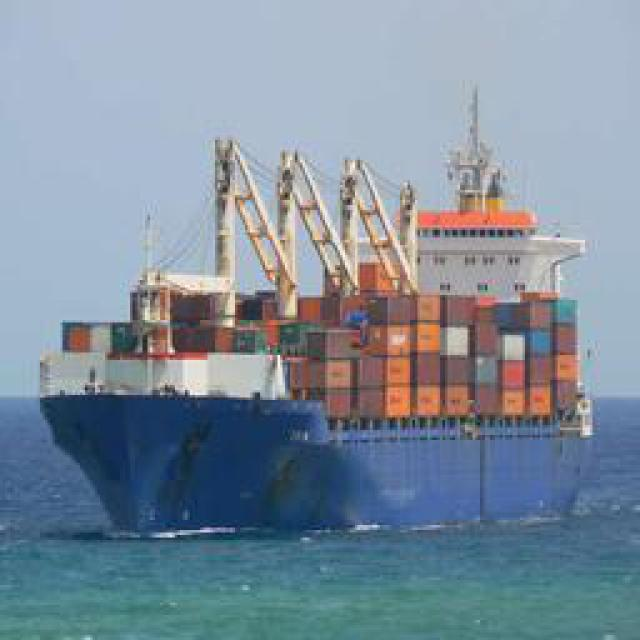Ship: (49, 74, 606, 548)
